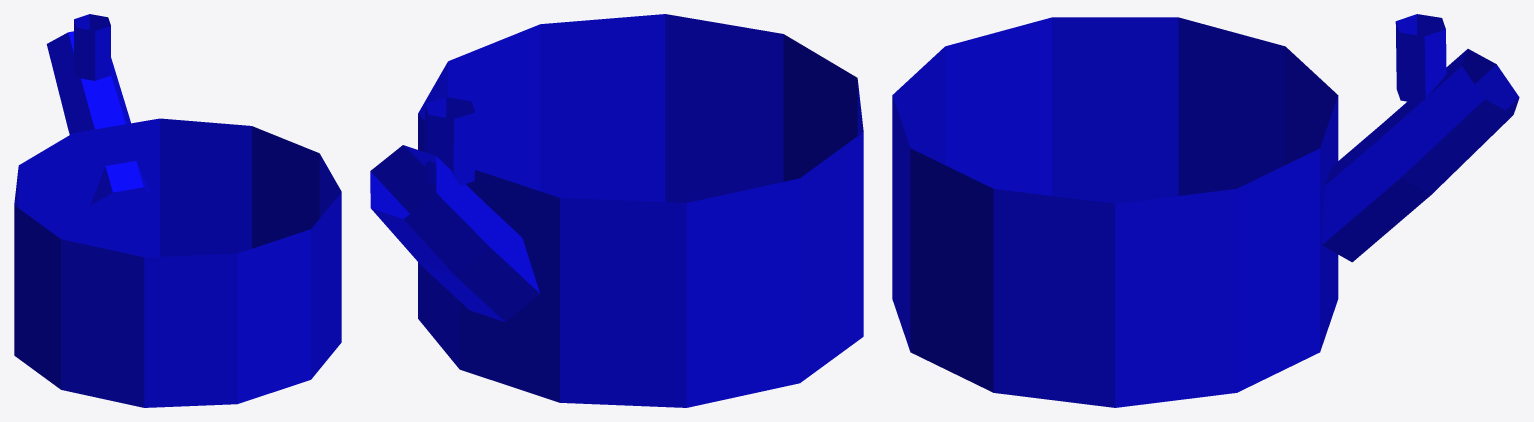
The picture shows the model from 3 angles, left to right: view 1: azimuth 30°, elevation 25°; view 2: azimuth 150°, elevation 25°; view 3: azimuth 270°, elevation 25°; orthographic projection. The views are drawn at different scales.
Visible parts, largest first — view 1: Cube; view 2: Cube; view 3: Cube.
Part boxes in pixels (x1,y1,x2,y2): Cube: [14, 14, 341, 407]; Cube: [370, 14, 863, 407]; Cube: [892, 14, 1519, 407].
Size of the model in its own units: 1.96 by 1.51 by 2.79.
